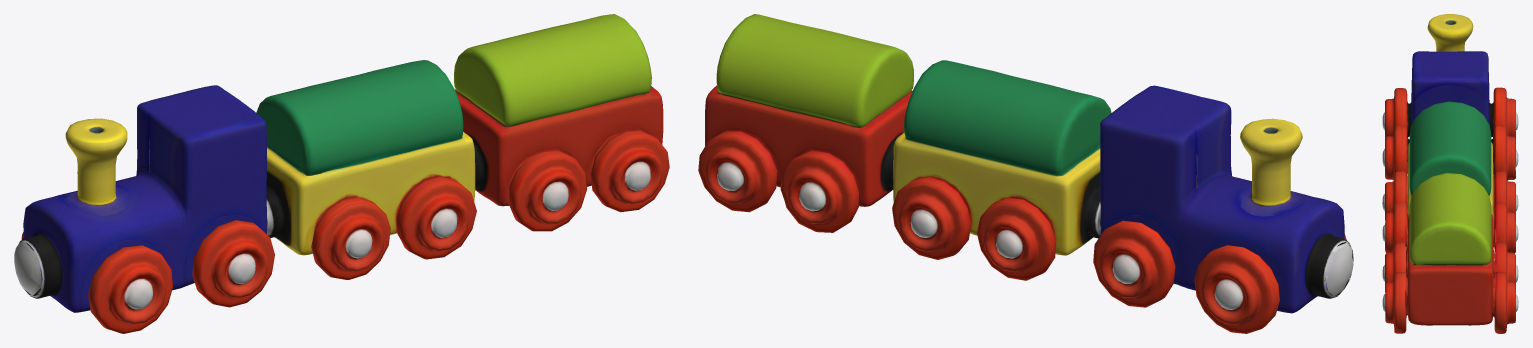
File: ToyTrain.fbx
The picture shows the model from 3 angles, left to right: view 1: azimuth 30°, elevation 25°; view 2: azimuth 150°, elevation 25°; view 3: azimuth 270°, elevation 25°; orthographic projection. The views are drawn at different scales.
Visible parts, largest first — view 1: SecondTrain, tripo_node_756351d6.001, TrainThird; view 2: SecondTrain, tripo_node_756351d6.001, TrainThird; view 3: TrainThird, SecondTrain, tripo_node_756351d6.001.
Boxes of the visible parts, x1,y1,x2,y2 form: SecondTrain: [14, 85, 274, 333]; tripo_node_756351d6.001: [256, 60, 476, 279]; TrainThird: [454, 14, 669, 231]; SecondTrain: [1093, 85, 1353, 333]; tripo_node_756351d6.001: [892, 60, 1111, 280]; TrainThird: [698, 14, 913, 232]; TrainThird: [1382, 173, 1518, 333]; SecondTrain: [1382, 14, 1518, 180]; tripo_node_756351d6.001: [1382, 101, 1518, 257].
Size of the model in its own units: 97.86 by 27.07 by 25.53.
Materials: 1 (1 with a texture image).
